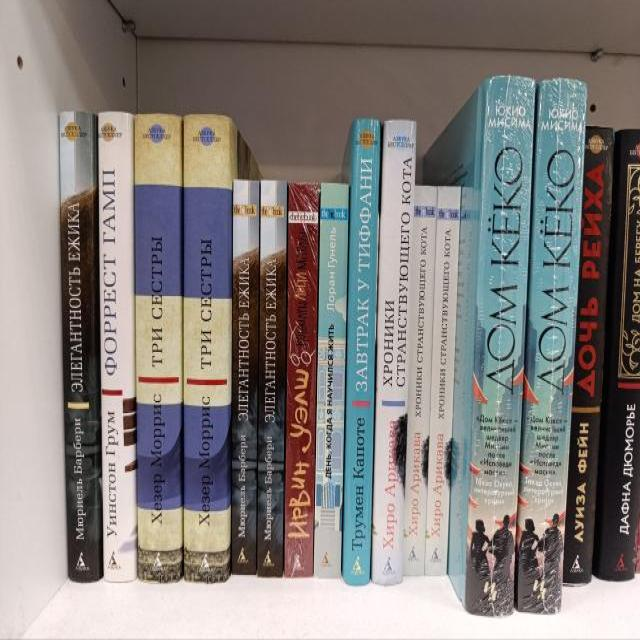book: (464, 79, 535, 616), (517, 79, 586, 616), (564, 126, 614, 584), (135, 113, 181, 584), (184, 114, 228, 583), (372, 121, 416, 584), (59, 111, 100, 581), (98, 111, 135, 581), (345, 121, 380, 583), (424, 187, 462, 574), (284, 182, 320, 577), (314, 183, 349, 577), (405, 187, 438, 577), (232, 179, 260, 576), (258, 181, 286, 578)
